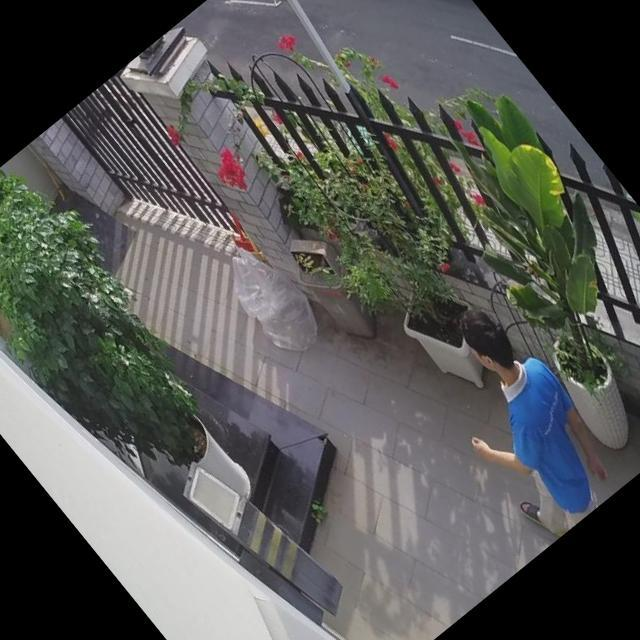person: (400, 287, 637, 544)
